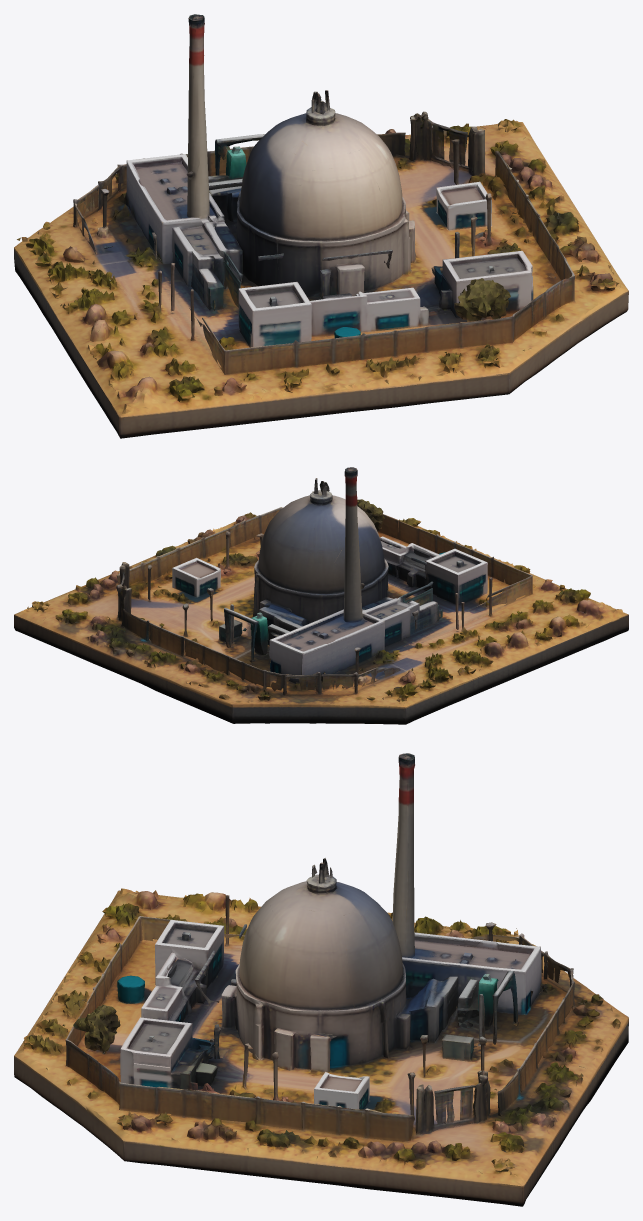
The model's file is lm_nuclear_research.glb.
3 views of the same model, one above another, from view 1: azimuth 30°, elevation 25°; view 2: azimuth 150°, elevation 25°; view 3: azimuth 270°, elevation 25° (orthographic). The views are drawn at different scales.
Parts seen in each view (by area): view 1: geometry_0; view 2: geometry_0; view 3: geometry_0.
Boxes of the visible parts, x1,y1,x2,y2 form: geometry_0: (14,14,628,438); geometry_0: (14,467,628,724); geometry_0: (14,753,628,1206).
Size of the model in its own units: 1 by 0.4165 by 0.8776.
1 material, 1 textured.
